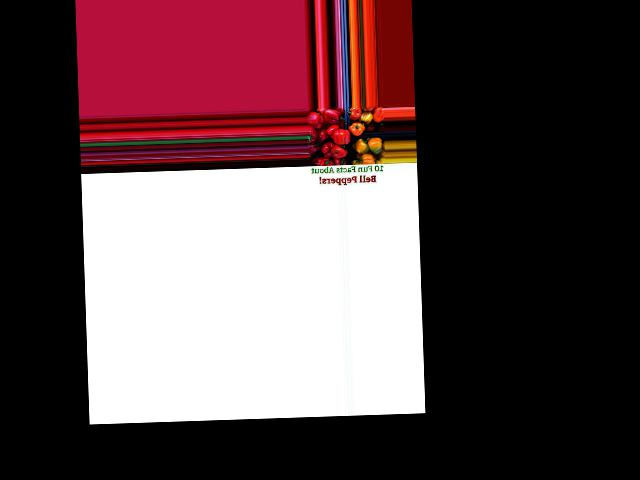bell_pepper: (316, 154, 337, 168)
